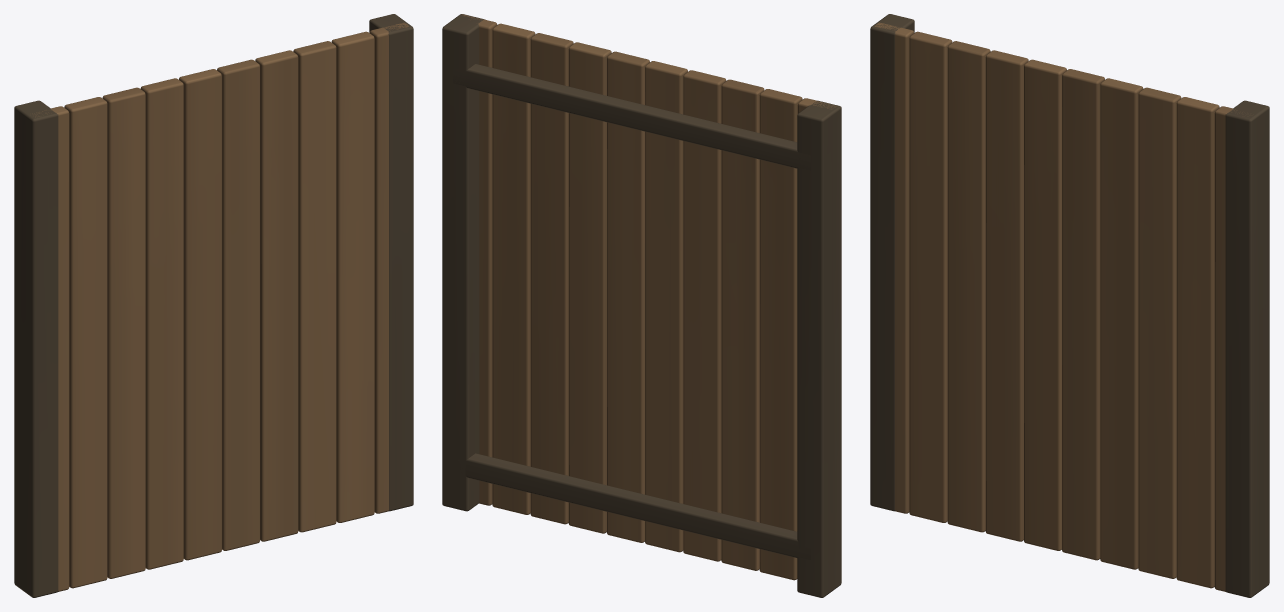
The model's file is wall.glb.
The picture shows the model from 3 angles, left to right: view 1: azimuth 30°, elevation 25°; view 2: azimuth 150°, elevation 25°; view 3: azimuth 330°, elevation 25°; orthographic projection.
Parts seen in each view (by area): view 1: Timber Wall; view 2: Timber Wall; view 3: Timber Wall.
Boxes of the visible parts, <box> form: Timber Wall: <box>14,14,413,597</box>; Timber Wall: <box>442,14,841,597</box>; Timber Wall: <box>870,14,1269,597</box>.
Size of the model in its own units: 2 by 2.4 by 0.18.
Materials: 2 (2 with a texture image).
